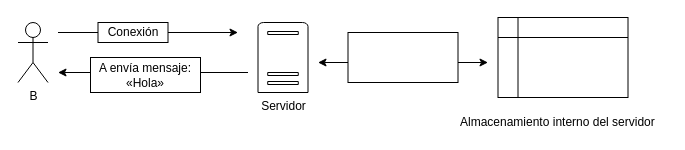
Some shapes in this 685 by 150 pixel diagram are drawn without their labels. The shapes that lost their labels are listed below. From the top down, each one's centre as x and y in pixels, then its label:
At (402,57): "Comprobación de mensajes almacenados".
At (562,57): "De A a B : «Hola»".
